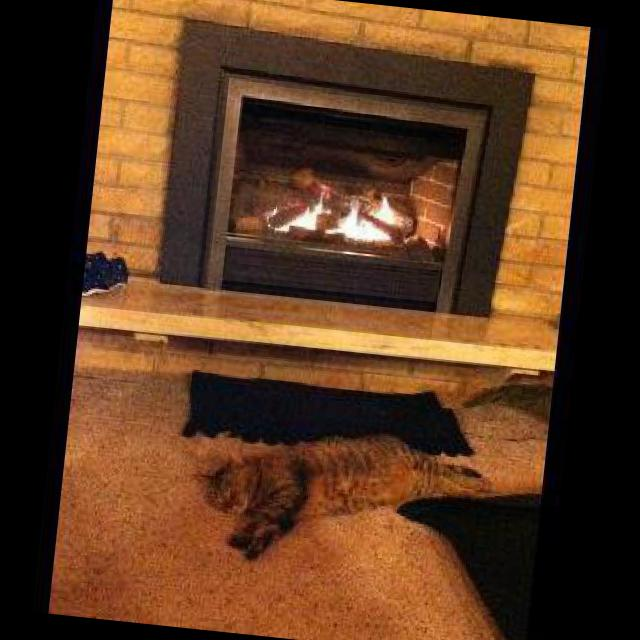fire: (272, 156, 432, 262)
